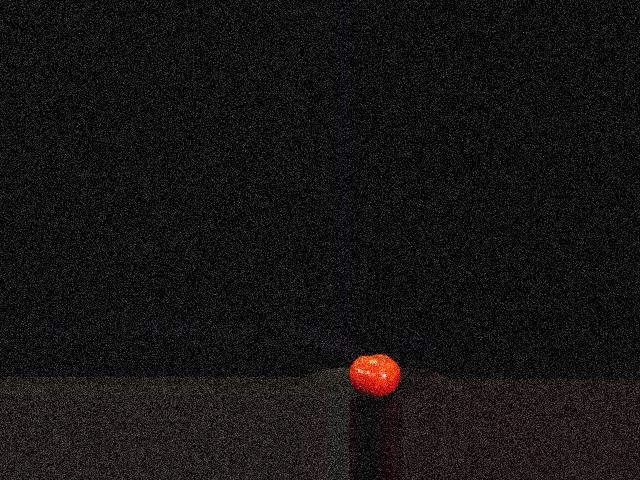tomato: (349, 354, 401, 398)
